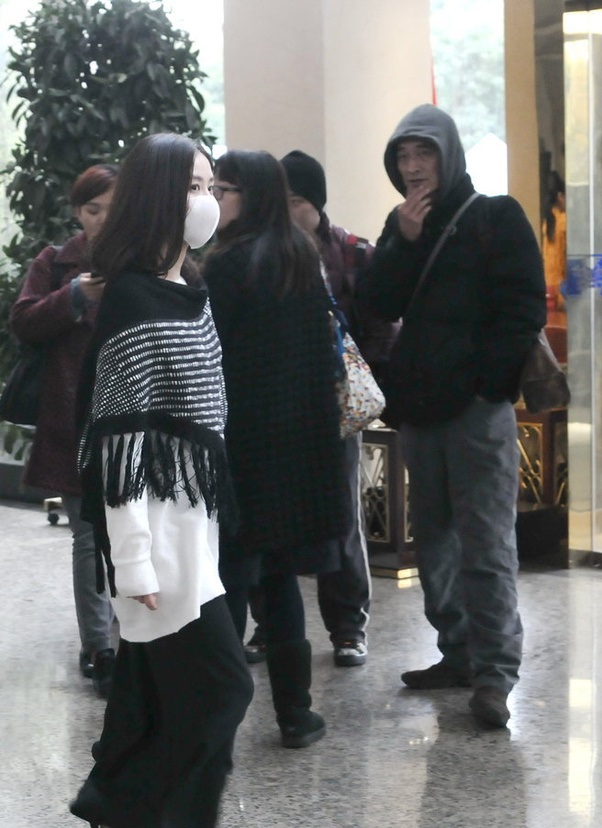face: (399, 135, 440, 194), (208, 171, 242, 232), (82, 190, 117, 238), (279, 188, 309, 240)
face_mask: (174, 160, 214, 240)
